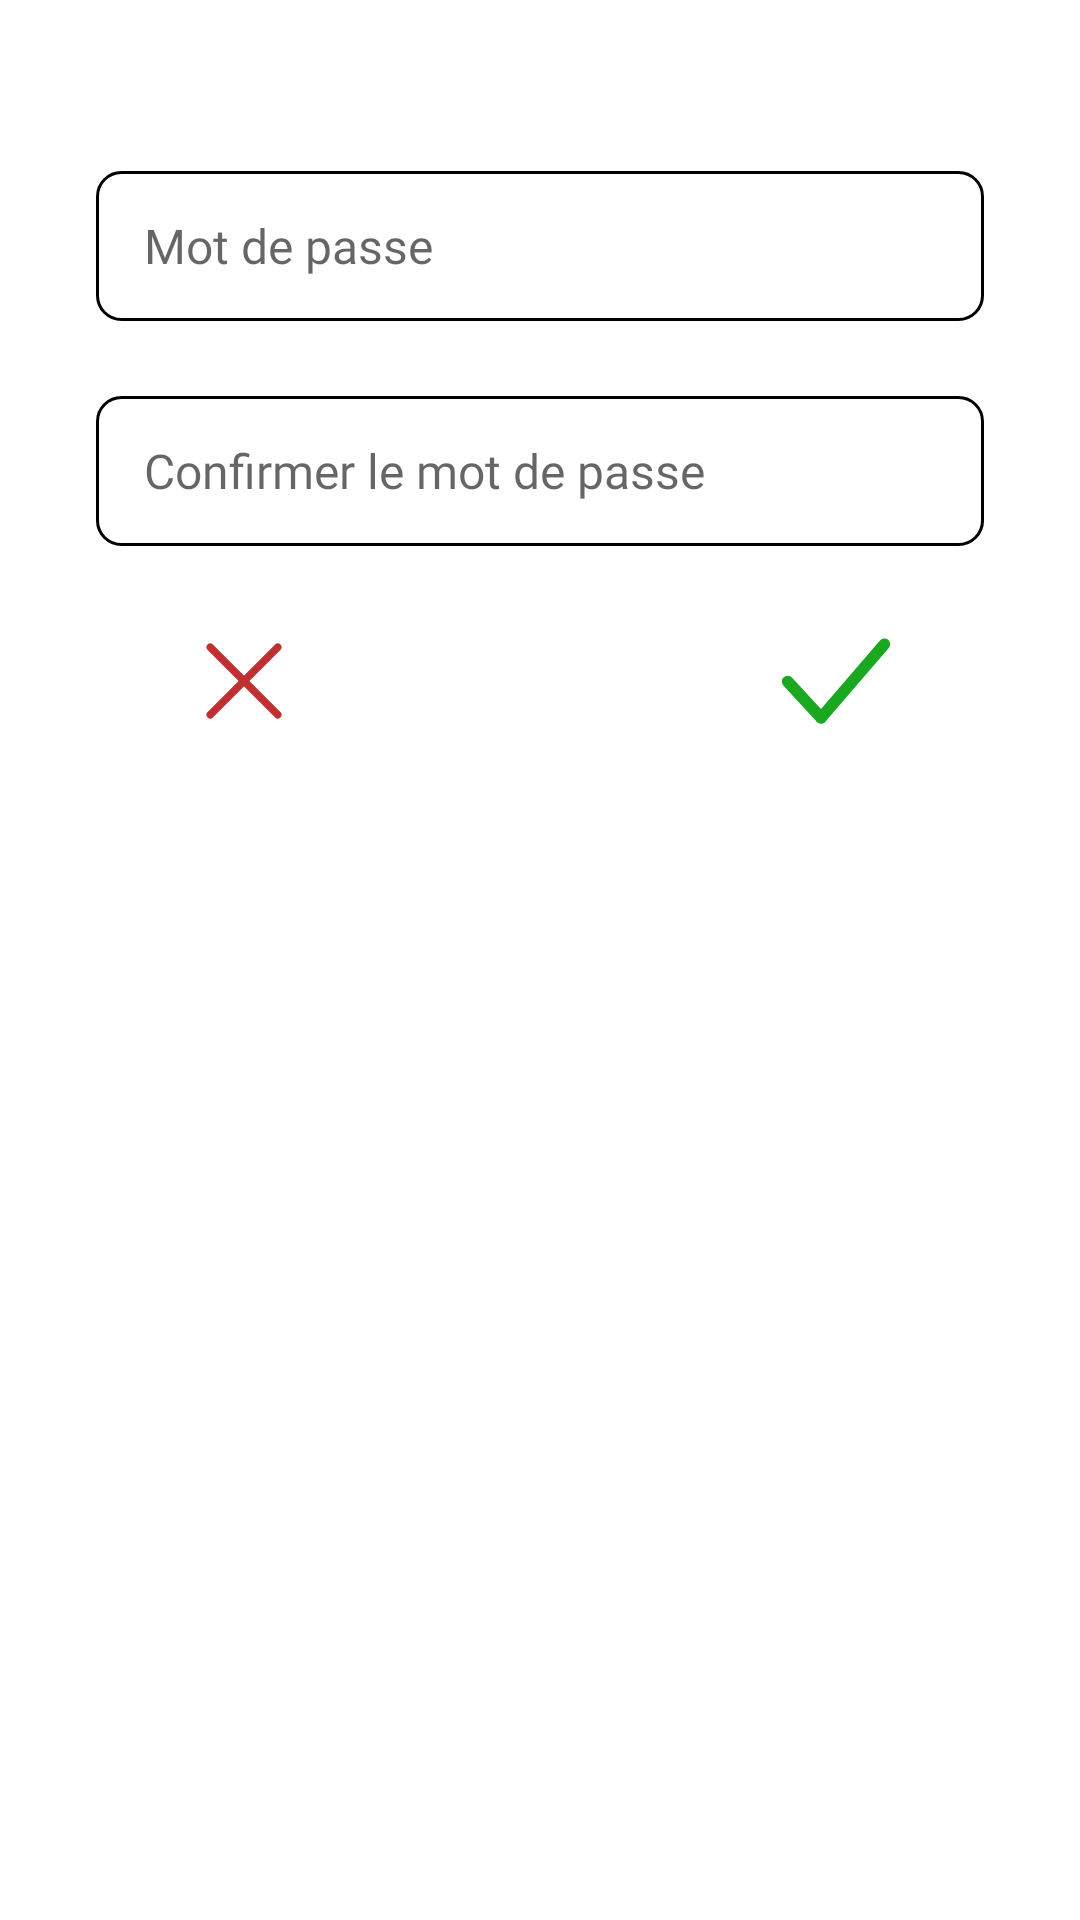

Named icons in this screenshot (1080w x 1920h) and their bounding boxes, rect(x1, y1, x2, y2):
cancel: rect(206, 643, 282, 719)
correct: rect(781, 638, 890, 724)
